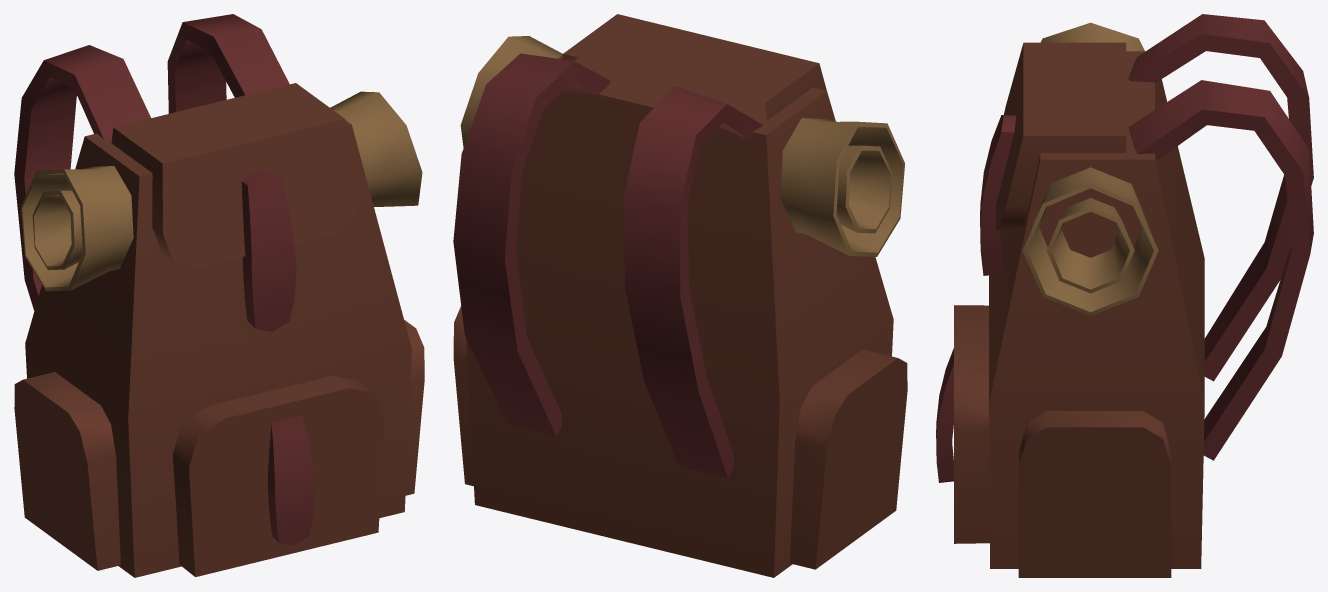
Rendered from SM_Bag.fbx.
The picture shows the model from 3 angles, left to right: view 1: azimuth 30°, elevation 25°; view 2: azimuth 150°, elevation 25°; view 3: azimuth 270°, elevation 25°; orthographic projection. The views are drawn at different scales.
Parts seen in each view (by area): view 1: Cube.005; view 2: Cube.005; view 3: Cube.005.
Part boxes in pixels (x1=…): Cube.005: x1=14, y1=14, x2=424, y2=577; Cube.005: x1=453, y1=14, x2=907, y2=577; Cube.005: x1=936, y1=14, x2=1313, y2=577.
Bounding box in the file's own units: 2.52 × 2.89 × 2.23.
